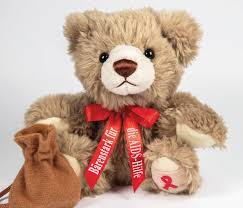teddy: (22, 2, 238, 201)
